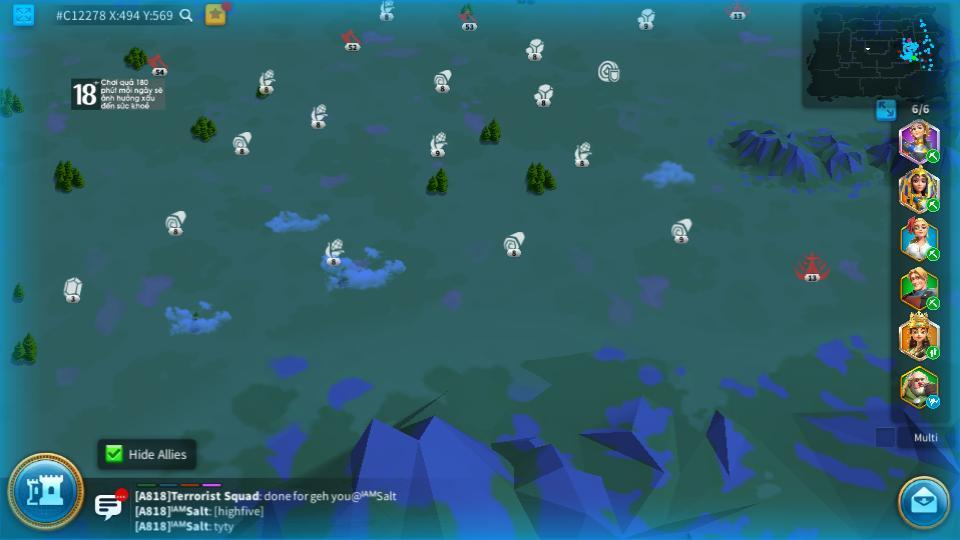gem-z-out: (60, 278, 84, 302)
march_farming: (924, 197, 939, 212)
march_idle: (925, 394, 942, 408)
march_marching: (925, 150, 942, 162), (925, 347, 941, 359), (925, 297, 941, 309)
